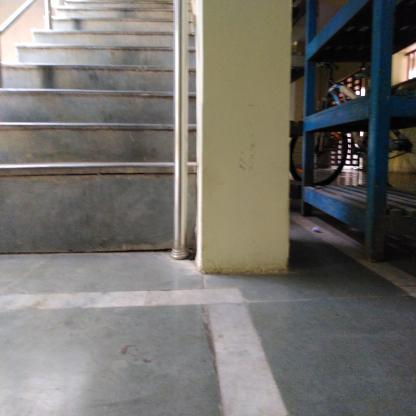stairs: (56, 3, 167, 266)
